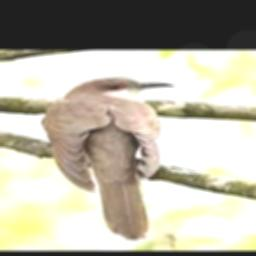Cuckoo: (42, 76, 174, 240)
